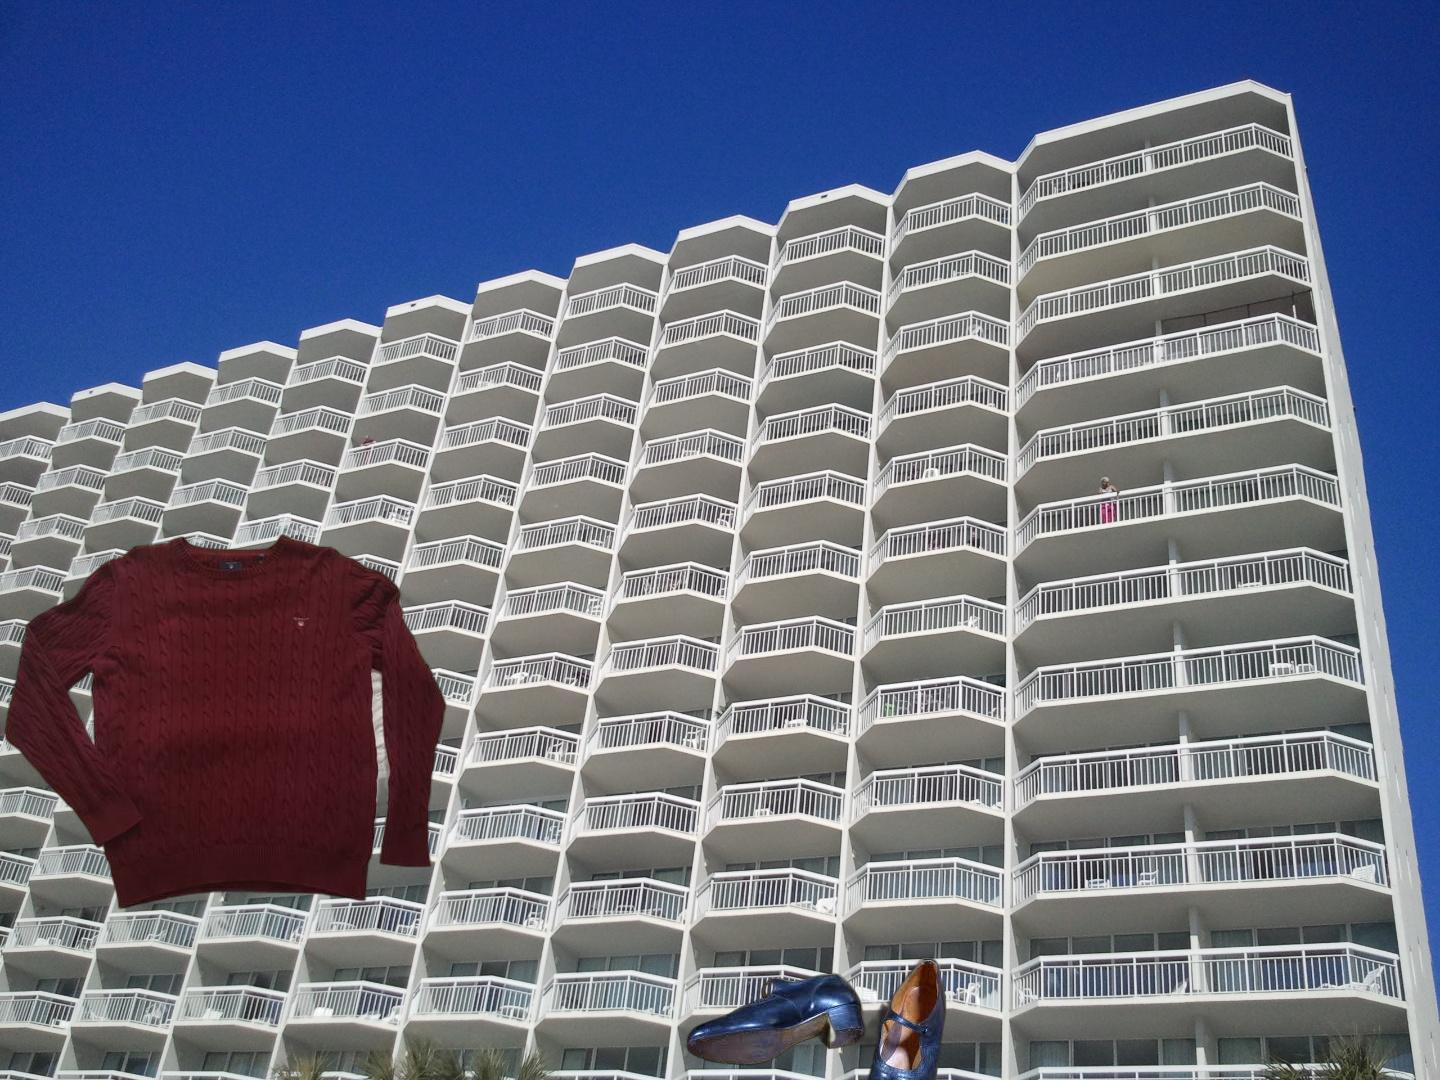clothes: (1, 531, 451, 912)
shoes: (685, 954, 949, 1080)
